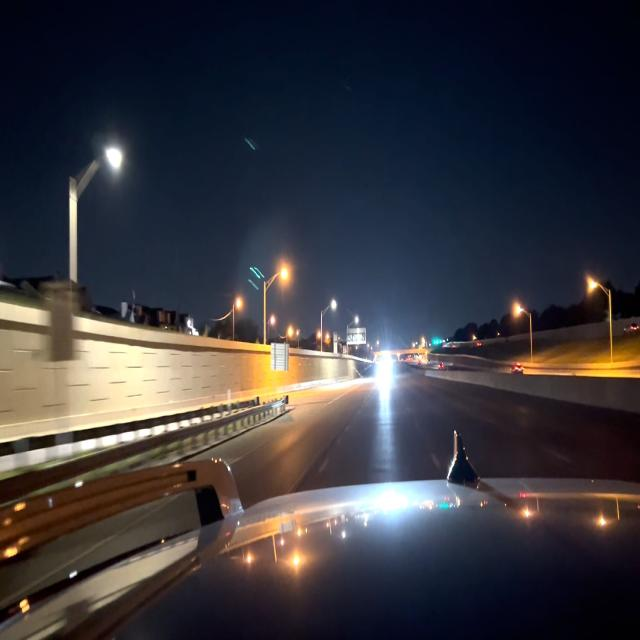back-of-sign: (271, 342, 289, 371)
